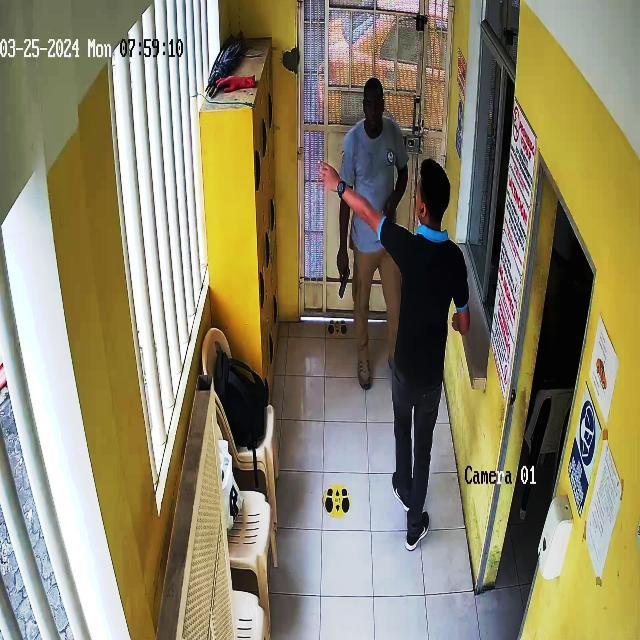Gun: (327, 256, 360, 311)
